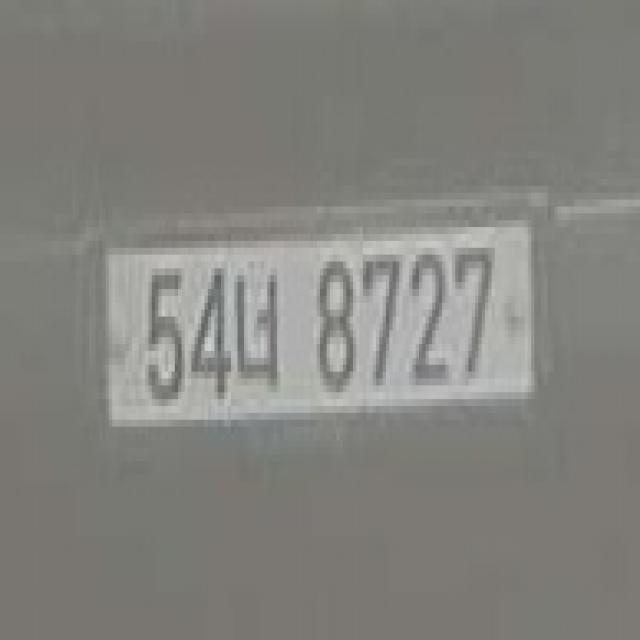2: (409, 214, 452, 392)
4: (192, 255, 238, 406)
5: (142, 241, 191, 420)
7: (360, 206, 402, 406), (452, 200, 495, 386)
8: (316, 200, 359, 399)
license_plate: (79, 186, 564, 475)
neo: (224, 255, 287, 399)
